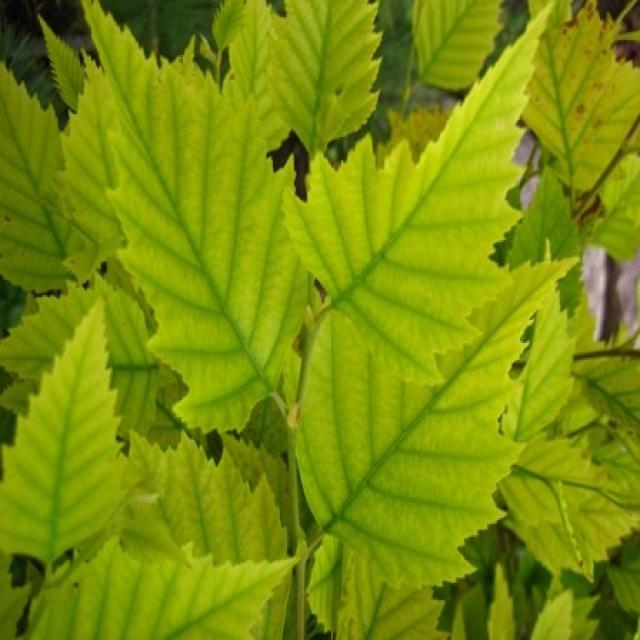Chlorosis: (0, 3, 640, 638)
